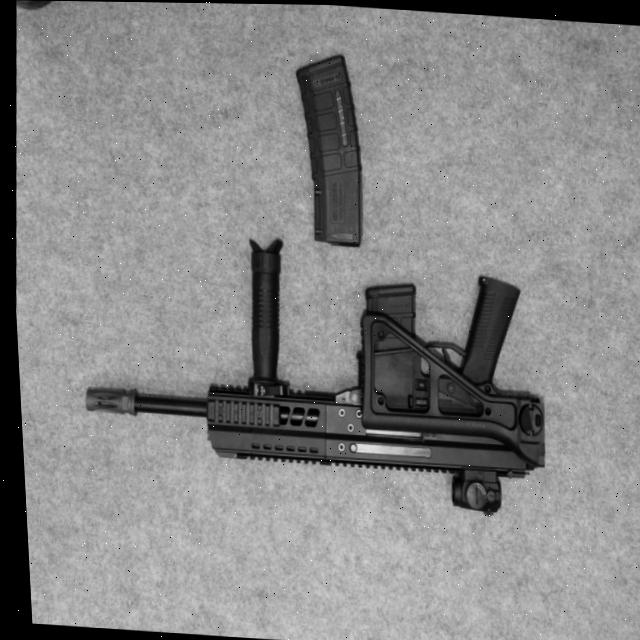firearm: (70, 247, 548, 519)
